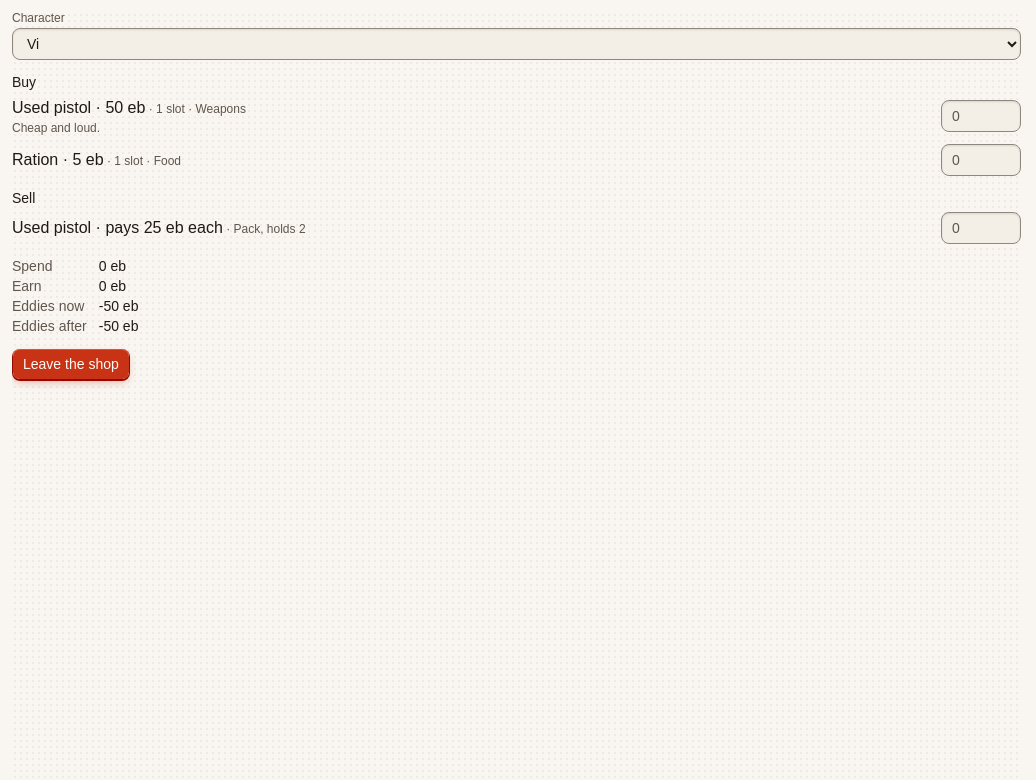
Test: ShopStepForm balance rules › lets a Character under the floor confirm a sale that ends higher than it began, as the server does
This screenshot has width=1036, height=780.
Type "1" into the number field named "Sell Used pistol from Pack". click: (981, 228)
box: left=941, top=212, right=1021, bottom=244
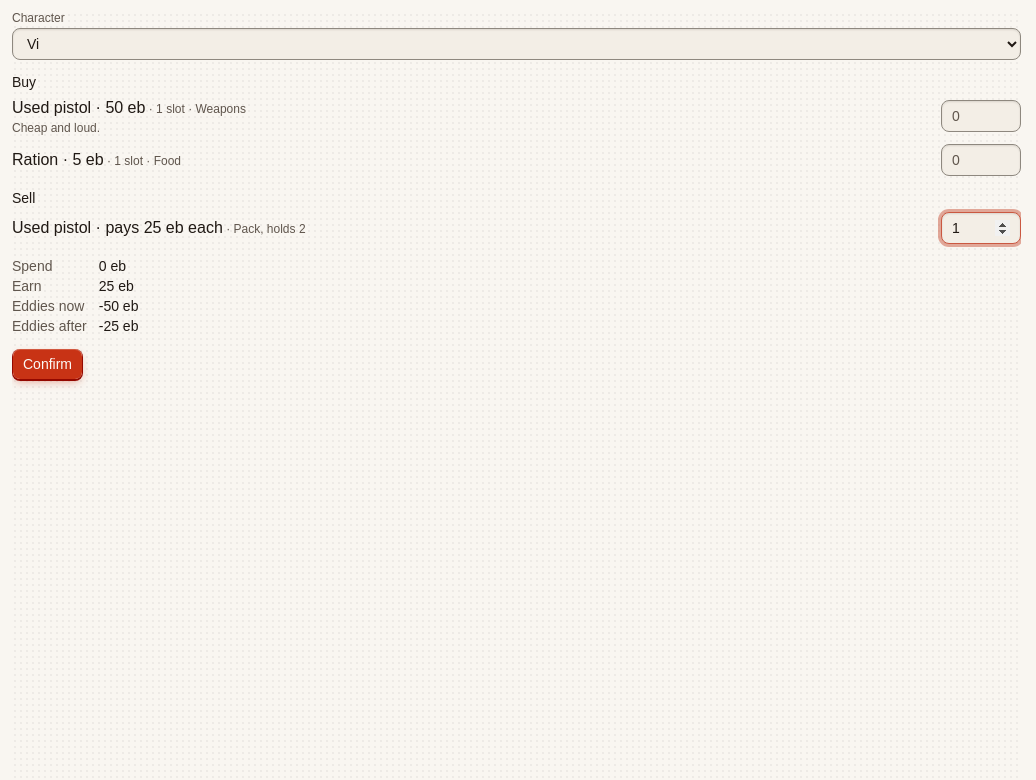
Expected: the button "Confirm" is enabled, left=12, top=348, right=83, bottom=380
Expected: the text "-25 eb" is shown, left=99, top=318, right=138, bottom=334
